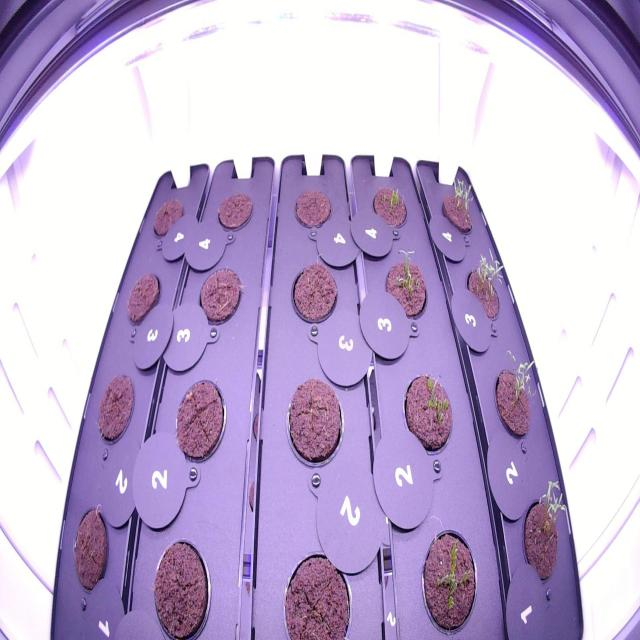germination: (519, 468, 579, 608), (416, 510, 481, 639), (490, 340, 551, 452), (400, 362, 455, 463), (380, 243, 430, 331), (462, 246, 512, 332), (436, 170, 482, 242), (367, 177, 411, 239)
pod: (276, 540, 355, 638), (147, 526, 215, 637), (281, 369, 349, 478), (171, 373, 229, 469), (66, 496, 112, 602), (90, 366, 141, 452), (286, 256, 343, 331), (195, 260, 244, 332), (122, 262, 164, 332), (146, 189, 188, 248), (288, 185, 337, 234), (211, 186, 256, 236)
